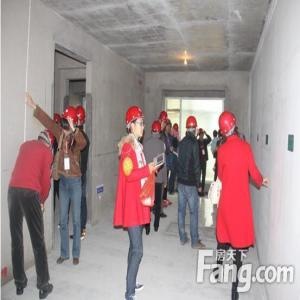red: (126, 104, 146, 141), (219, 111, 238, 141), (61, 106, 77, 135), (38, 128, 56, 153), (74, 104, 88, 128), (185, 115, 198, 138), (151, 120, 163, 139), (158, 111, 169, 130), (198, 128, 205, 140), (174, 123, 180, 134)
